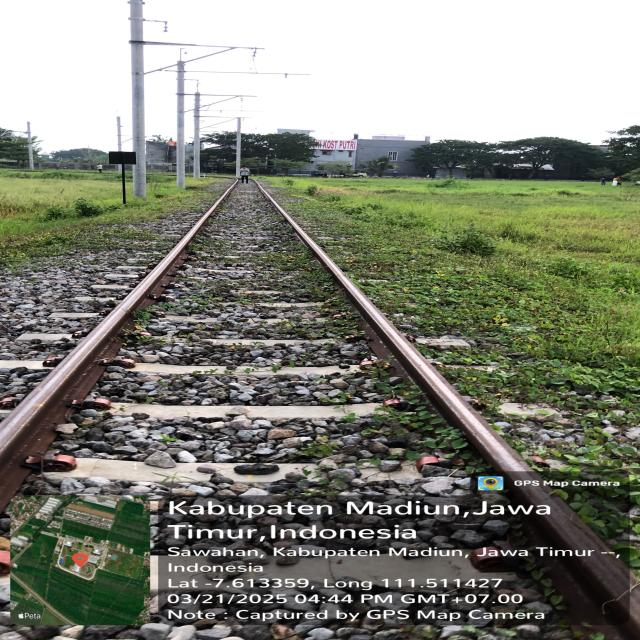rail-detection: (260, 186, 640, 640), (0, 209, 213, 504)
